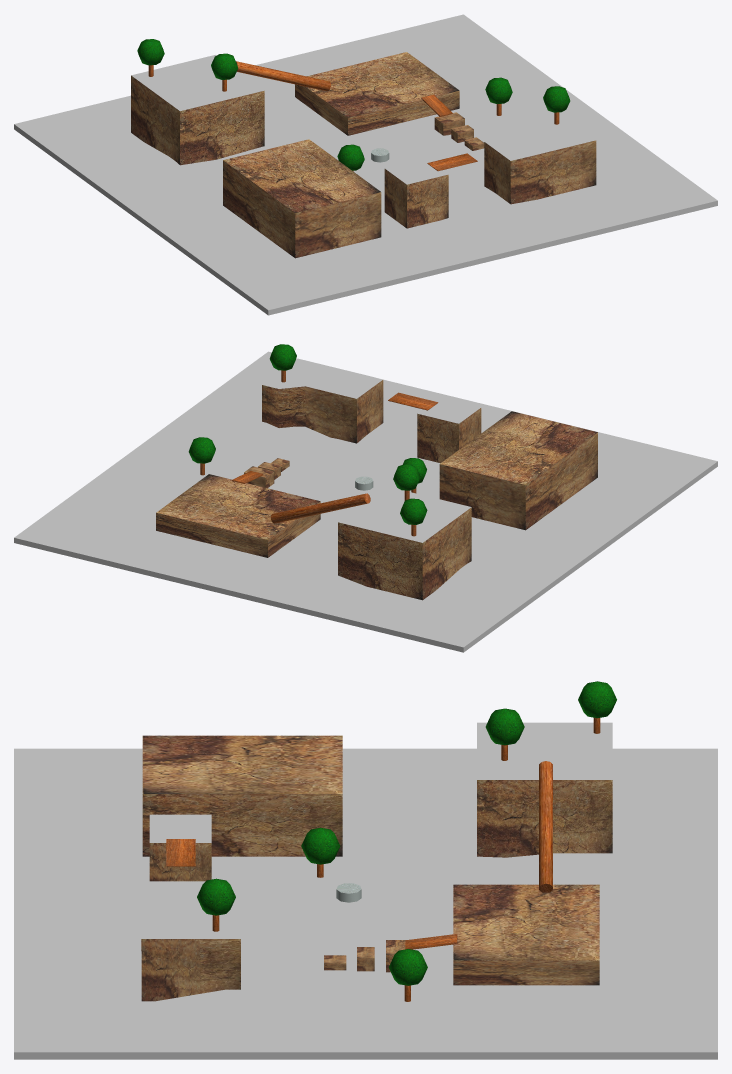
The model's file is stage_01.fbx.
3 views of the same model, one above another, from view 1: azimuth 30°, elevation 25°; view 2: azimuth 150°, elevation 25°; view 3: azimuth 270°, elevation 25° (orthographic). The views are drawn at different scales.
Parts seen in each view (by area): view 1: Box009, Box005, Box010, Box002, Box012, Box011, Cylinder001, Sphere001, Sphere003, Sphere004, Sphere002, Sphere005 (+1 smaller); view 2: Box009, Box005, Box010, Box002, Box012, Box011, Cylinder001, Sphere004, Sphere001, Sphere003, Sphere002; view 3: Box009, Box005, Box010, Box002, Box012, Box011, Cylinder001, Sphere001, Sphere002, Sphere003, Sphere004, Sphere005 (+1 smaller).
Part boxes in pixels (x1=…): Box009: x1=14, y1=14, x2=717, y2=315; Box005: x1=223, y1=139, x2=381, y2=258; Box010: x1=131, y1=55, x2=264, y2=165; Box002: x1=295, y1=52, x2=459, y2=135; Box012: x1=484, y1=114, x2=596, y2=204; Box011: x1=384, y1=158, x2=448, y2=228; Cylinder001: x1=236, y1=61, x2=330, y2=91; Sphere001: x1=543, y1=86, x2=570, y2=112; Sphere003: x1=211, y1=53, x2=238, y2=79; Sphere004: x1=485, y1=77, x2=512, y2=103; Sphere002: x1=137, y1=39, x2=164, y2=65; Sphere005: x1=337, y1=144, x2=364, y2=170; Box009: x1=14, y1=351, x2=717, y2=652; Box005: x1=439, y1=411, x2=597, y2=530; Box010: x1=338, y1=486, x2=471, y2=600; Box002: x1=156, y1=474, x2=320, y2=557; Box012: x1=262, y1=358, x2=383, y2=443; Box011: x1=417, y1=397, x2=481, y2=463; Cylinder001: x1=271, y1=493, x2=370, y2=523; Sphere004: x1=188, y1=437, x2=215, y2=463; Sphere001: x1=269, y1=344, x2=296, y2=370; Sphere003: x1=393, y1=464, x2=420, y2=490; Sphere002: x1=400, y1=498, x2=427, y2=524; Box009: x1=14, y1=748, x2=717, y2=1059; Box005: x1=142, y1=735, x2=342, y2=856; Box010: x1=477, y1=722, x2=612, y2=857; Box002: x1=453, y1=884, x2=599, y2=985; Box012: x1=141, y1=881, x2=240, y2=1001; Box011: x1=149, y1=814, x2=211, y2=881; Cylinder001: x1=539, y1=761, x2=552, y2=892; Sphere001: x1=197, y1=878, x2=235, y2=915; Sphere002: x1=578, y1=681, x2=616, y2=718; Sphere003: x1=485, y1=708, x2=524, y2=745; Sphere004: x1=388, y1=949, x2=427, y2=985; Sphere005: x1=301, y1=827, x2=340, y2=864.
Bounding box in the file's own units: 11207 × 10982 × 2360.
